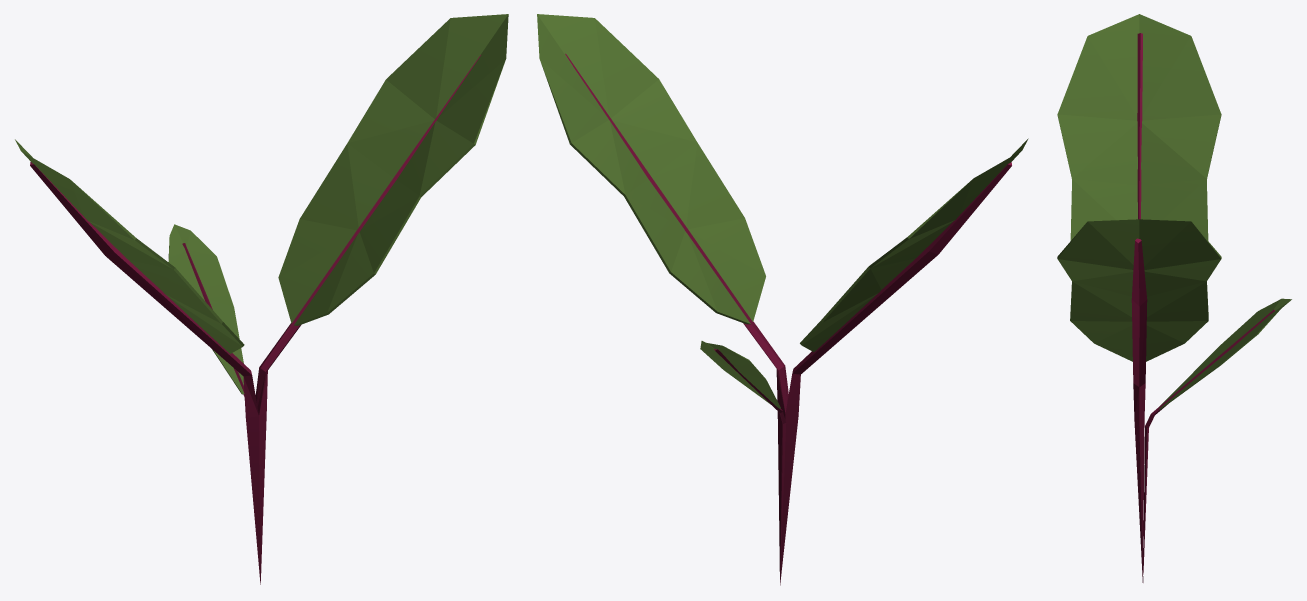
The model's file is Crop_Beetroot_STAGE_1_01.obj.
3 renders of one model, left to right at view 1: azimuth 30°, elevation 25°; view 2: azimuth 150°, elevation 25°; view 3: azimuth 270°, elevation 25°, orthographic. The views are drawn at different scales.
Parts seen in each view (by area): view 1: Crop_Beetroot_STAGE_1_01; view 2: Crop_Beetroot_STAGE_1_01; view 3: Crop_Beetroot_STAGE_1_01.
Boxes of the visible parts, <box> form: Crop_Beetroot_STAGE_1_01: <box>15,14,508,584</box>; Crop_Beetroot_STAGE_1_01: <box>537,14,1028,585</box>; Crop_Beetroot_STAGE_1_01: <box>1057,14,1291,582</box>.
Size of the model in its own units: 0.2074 by 0.2089 by 0.0928.
Materials: 1 (1 with a texture image).
